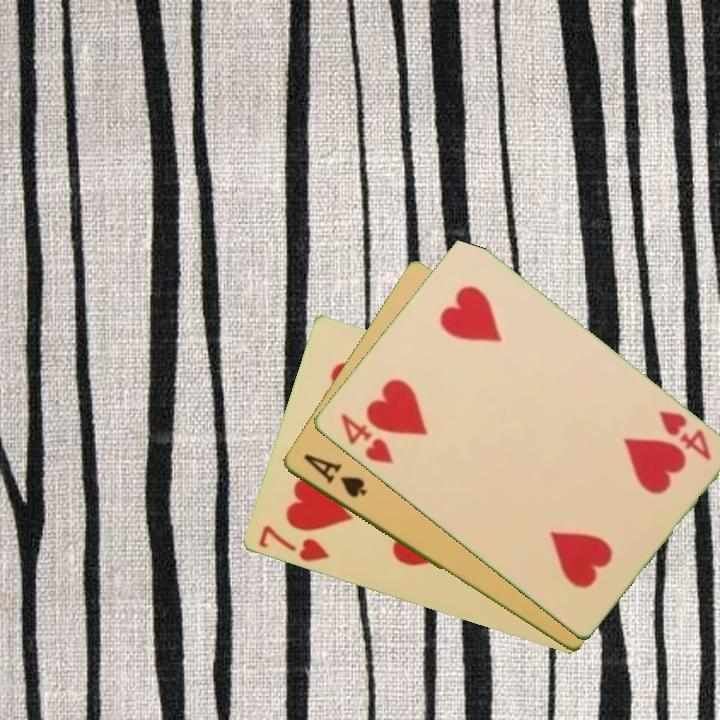4h: (336, 409, 396, 468), (654, 407, 714, 464)
7h: (254, 522, 332, 565)
As: (299, 450, 370, 501)
